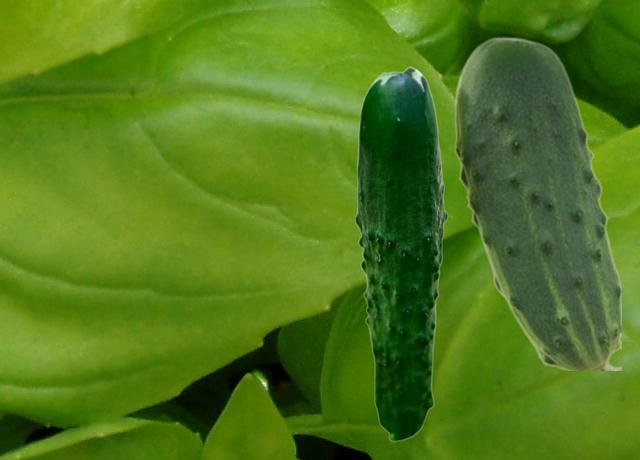cucumber: (454, 36, 620, 369), (354, 66, 447, 441)
